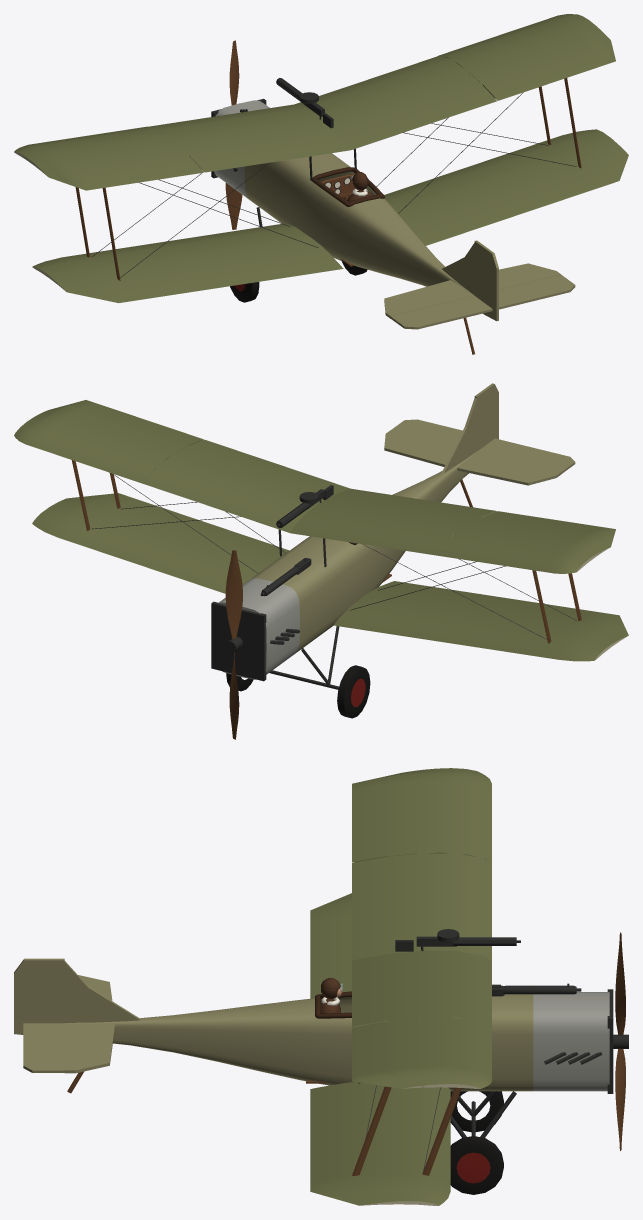
3 views of the same model, one above another, from view 1: azimuth 30°, elevation 25°; view 2: azimuth 150°, elevation 25°; view 3: azimuth 270°, elevation 25° (orthographic). The views are drawn at different scales.
Parts seen in each view (by area): view 1: Wing_Upper_R, Wing_Lower_L, Wing_Lower_R, Fuselage, Wing_Upper_L, Elevator, Aileron_R, Aileron_L, Stabilizer_L, Rudder, Wires, Struts (+6 smaller); view 2: Wing_Upper_R, Wing_Upper_L, Wing_Lower_L, Wing_Lower_R, Fuselage, Engine, Elevator, Stabilizer_L, PropBlades, Wheels, Stabilizer_R, Aileron_R (+7 smaller); view 3: Fuselage, Wing_Upper_L, Wing_Upper_R, Wing_Lower_R, Wing_Lower_L, Wheels, Rudder, Aileron_L, Aileron_R, Stabilizer_R, Guns, Fin (+6 smaller).
Part boxes in pixels (x1=…): Wing_Upper_R: x1=295, y1=14, x2=601, y2=149; Wing_Lower_L: x1=32, y1=223, x2=343, y2=303; Wing_Lower_R: x1=384, y1=129, x2=628, y2=245; Fuselage: x1=214, y1=100, x2=474, y2=295; Wing_Upper_L: x1=14, y1=104, x2=350, y2=173; Elevator: x1=390, y1=274, x2=575, y2=329; Aileron_R: x1=482, y1=31, x2=615, y2=100; Aileron_L: x1=39, y1=155, x2=203, y2=190; Stabilizer_L: x1=384, y1=280, x2=474, y2=318; Rudder: x1=474, y1=240, x2=498, y2=321; Wires: x1=92, y1=92, x2=576, y2=277; Struts: x1=75, y1=78, x2=581, y2=280; Wing_Upper_R: x1=14, y1=406, x2=350, y2=532; Wing_Upper_L: x1=290, y1=488, x2=601, y2=573; Wing_Lower_L: x1=334, y1=581, x2=628, y2=661; Wing_Lower_R: x1=32, y1=493, x2=289, y2=593; Fuselage: x1=218, y1=452, x2=475, y2=679; Engine: x1=211, y1=601, x2=299, y2=681; Elevator: x1=391, y1=419, x2=575, y2=473; Stabilizer_L: x1=457, y1=451, x2=561, y2=485; PropBlades: x1=225, y1=550, x2=242, y2=739; Wheels: x1=226, y1=665, x2=370, y2=718; Stabilizer_R: x1=384, y1=430, x2=454, y2=466; Aileron_R: x1=41, y1=400, x2=203, y2=445; Fuselage: x1=67, y1=992, x2=609, y2=1091; Wing_Upper_L: x1=352, y1=768, x2=491, y2=960; Wing_Upper_R: x1=352, y1=950, x2=491, y2=1088; Wing_Lower_R: x1=310, y1=1082, x2=450, y2=1205; Wing_Lower_L: x1=310, y1=893, x2=351, y2=998; Wheels: x1=450, y1=1091, x2=503, y2=1194; Rudder: x1=14, y1=958, x2=64, y2=1034; Aileron_L: x1=352, y1=770, x2=420, y2=862; Aileron_R: x1=352, y1=1021, x2=421, y2=1088; Stabilizer_R: x1=64, y1=1023, x2=114, y2=1073; Guns: x1=395, y1=929, x2=581, y2=996; Fin: x1=64, y1=961, x2=140, y2=1022.
Bounding box in the file's own units: 8.11 × 2.87 × 6.67.
